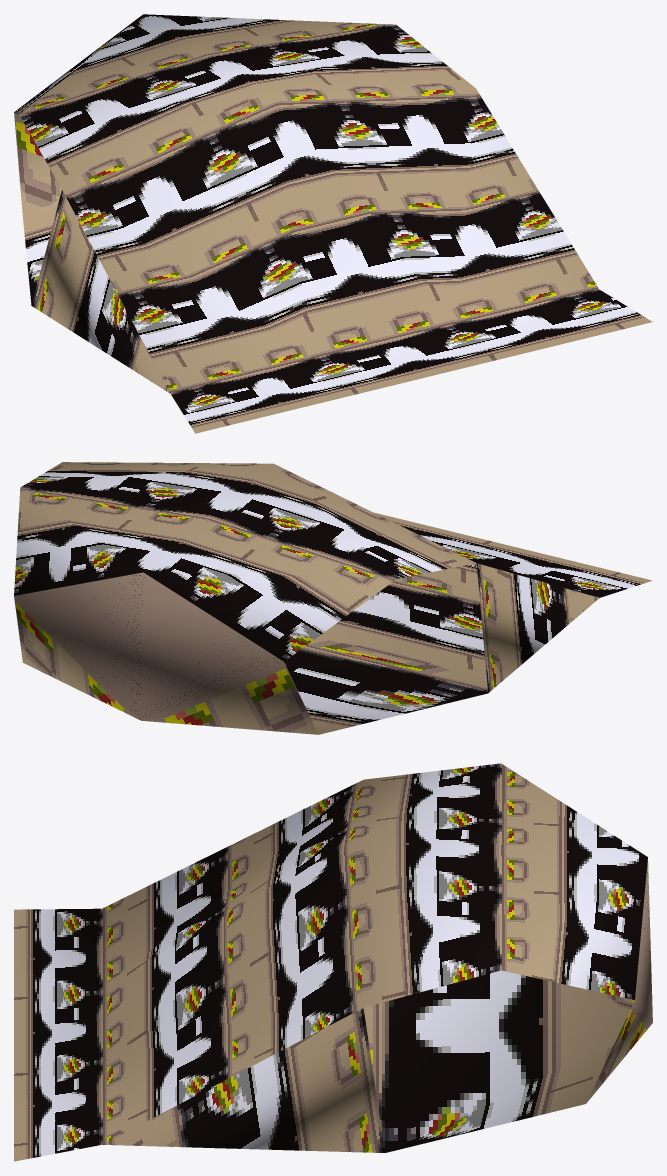
Rendered from 2593top000_c.gltf.
3 renders of one model, top to bottom at view 1: azimuth 30°, elevation 25°; view 2: azimuth 150°, elevation 25°; view 3: azimuth 270°, elevation 25°, orthographic. The views are drawn at different scales.
Parts seen in each view (by area): view 1: 2593top000_c; view 2: 2593top000_c; view 3: 2593top000_c.
Part boxes in pixels (<box>): 2593top000_c: <box>14,14,652,433</box>; 2593top000_c: <box>14,462,652,734</box>; 2593top000_c: <box>14,763,652,1161</box>.
Bounding box in the file's own units: 0.7598 × 0.2717 × 0.814.
Materials: 1 (1 with a texture image).
